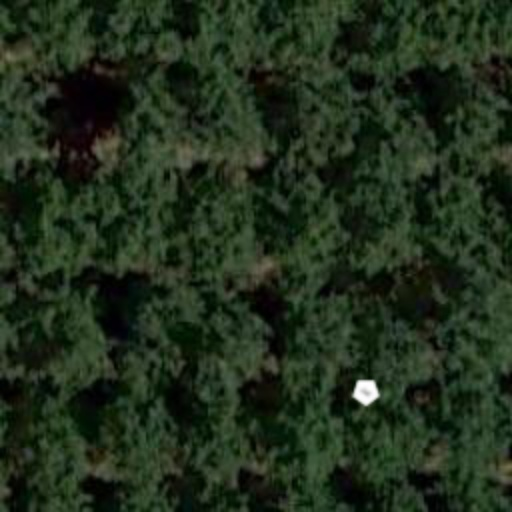pentagon: (344, 370, 388, 414)
